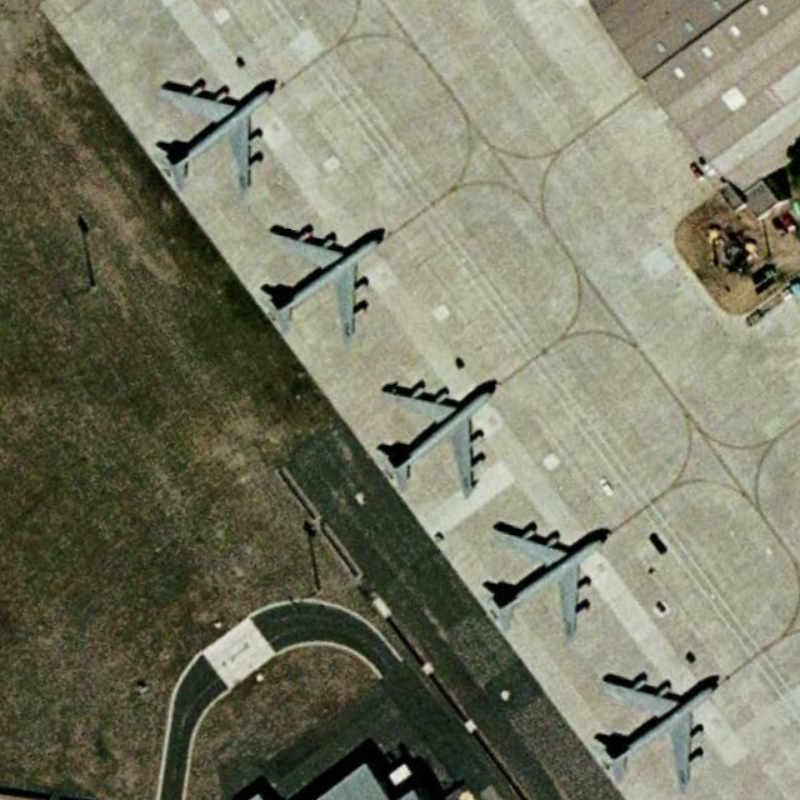A14: (151, 61, 286, 200), (587, 665, 732, 793), (371, 367, 506, 500), (257, 214, 383, 354), (480, 510, 611, 641)
